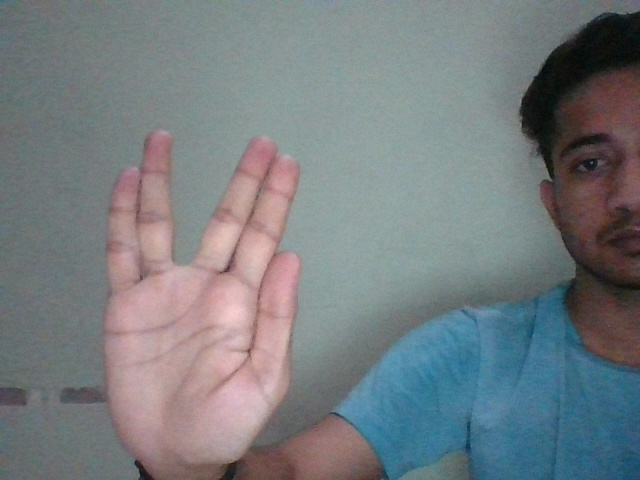livelong: (104, 129, 301, 463)
